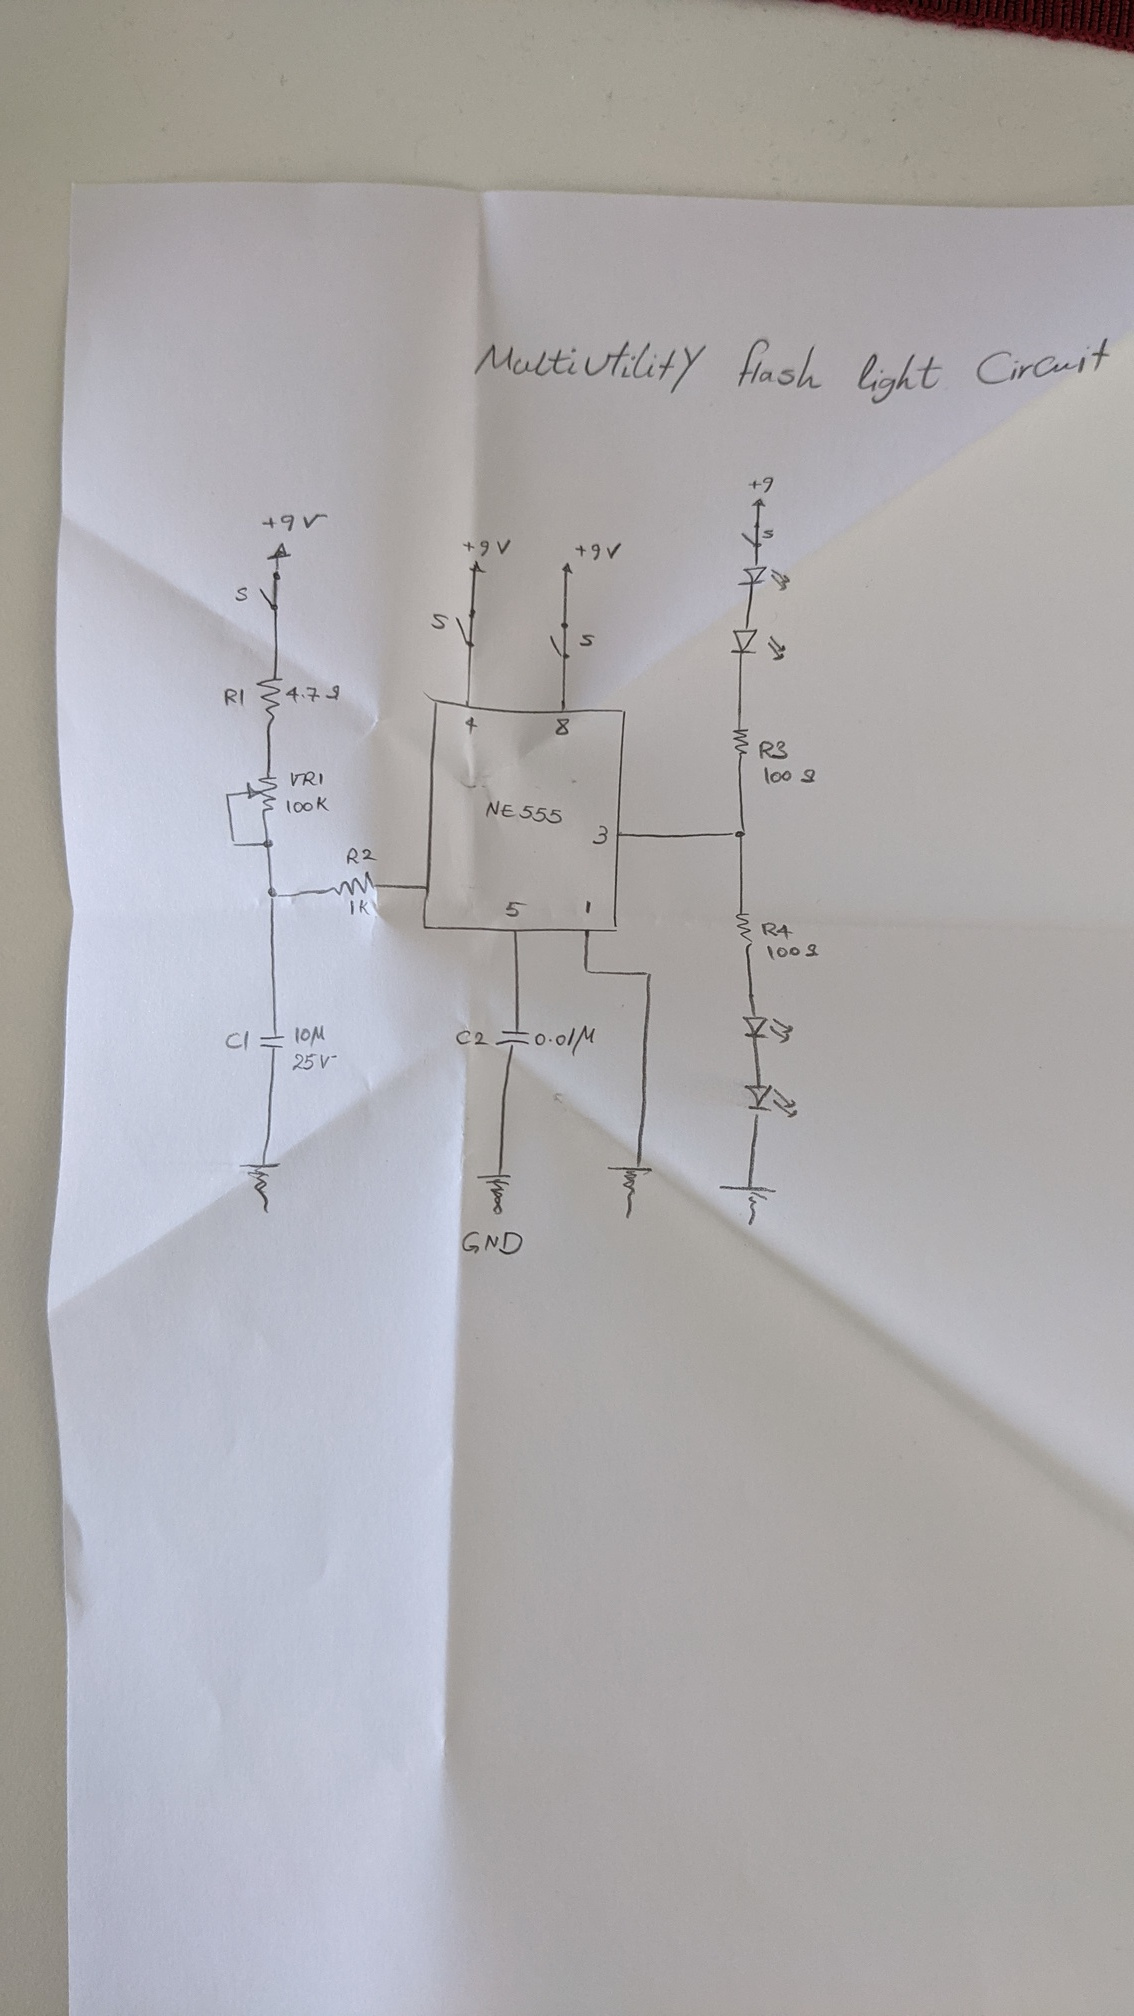capacitor.unpolarized: (493, 1027, 532, 1050), (258, 1032, 287, 1050)
diode.light_emitting: (742, 1081, 800, 1122), (728, 624, 788, 663), (739, 1014, 795, 1045), (737, 561, 791, 593)
gnd: (605, 1163, 655, 1221), (717, 1182, 780, 1227), (235, 1160, 282, 1216), (475, 1169, 512, 1217)
integrated_cricuit.ne555: (420, 690, 630, 937)
junction: (264, 885, 281, 901), (730, 828, 748, 840), (260, 836, 276, 850), (582, 964, 593, 976), (228, 838, 240, 847), (642, 969, 654, 979), (223, 791, 233, 800)
resistor: (253, 676, 284, 726), (327, 870, 377, 897), (734, 910, 755, 951), (731, 726, 750, 759)
resistor.adjustable: (245, 774, 280, 816)
switch: (453, 609, 480, 649), (258, 570, 284, 612), (548, 620, 570, 660), (739, 522, 763, 548)
text: (471, 332, 1110, 407), (485, 799, 564, 827), (534, 1023, 597, 1056), (460, 1230, 525, 1257), (260, 512, 330, 534), (285, 683, 343, 705), (573, 540, 624, 564), (762, 764, 817, 785), (461, 537, 514, 558), (284, 793, 332, 814), (764, 942, 820, 960), (291, 1052, 339, 1072), (294, 1023, 327, 1048), (760, 919, 793, 942), (757, 739, 791, 762), (288, 768, 325, 788), (345, 845, 378, 865), (456, 1029, 490, 1048), (223, 1029, 251, 1052), (222, 685, 246, 708), (504, 899, 529, 919), (748, 475, 774, 494), (348, 897, 372, 917), (590, 822, 611, 845), (429, 612, 450, 631), (554, 716, 570, 737), (234, 584, 251, 604), (462, 714, 478, 735), (577, 631, 595, 648), (583, 899, 595, 917), (762, 528, 775, 540)
vss: (264, 541, 294, 562), (467, 559, 487, 576), (559, 561, 576, 576), (750, 497, 768, 510)
